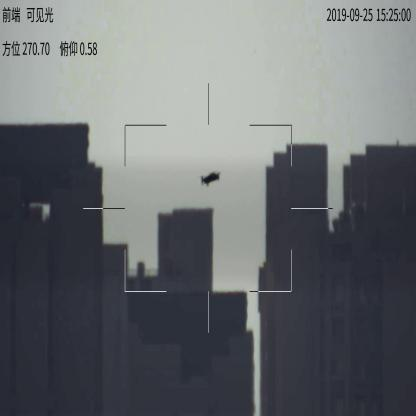uav: (199, 171, 220, 186)
